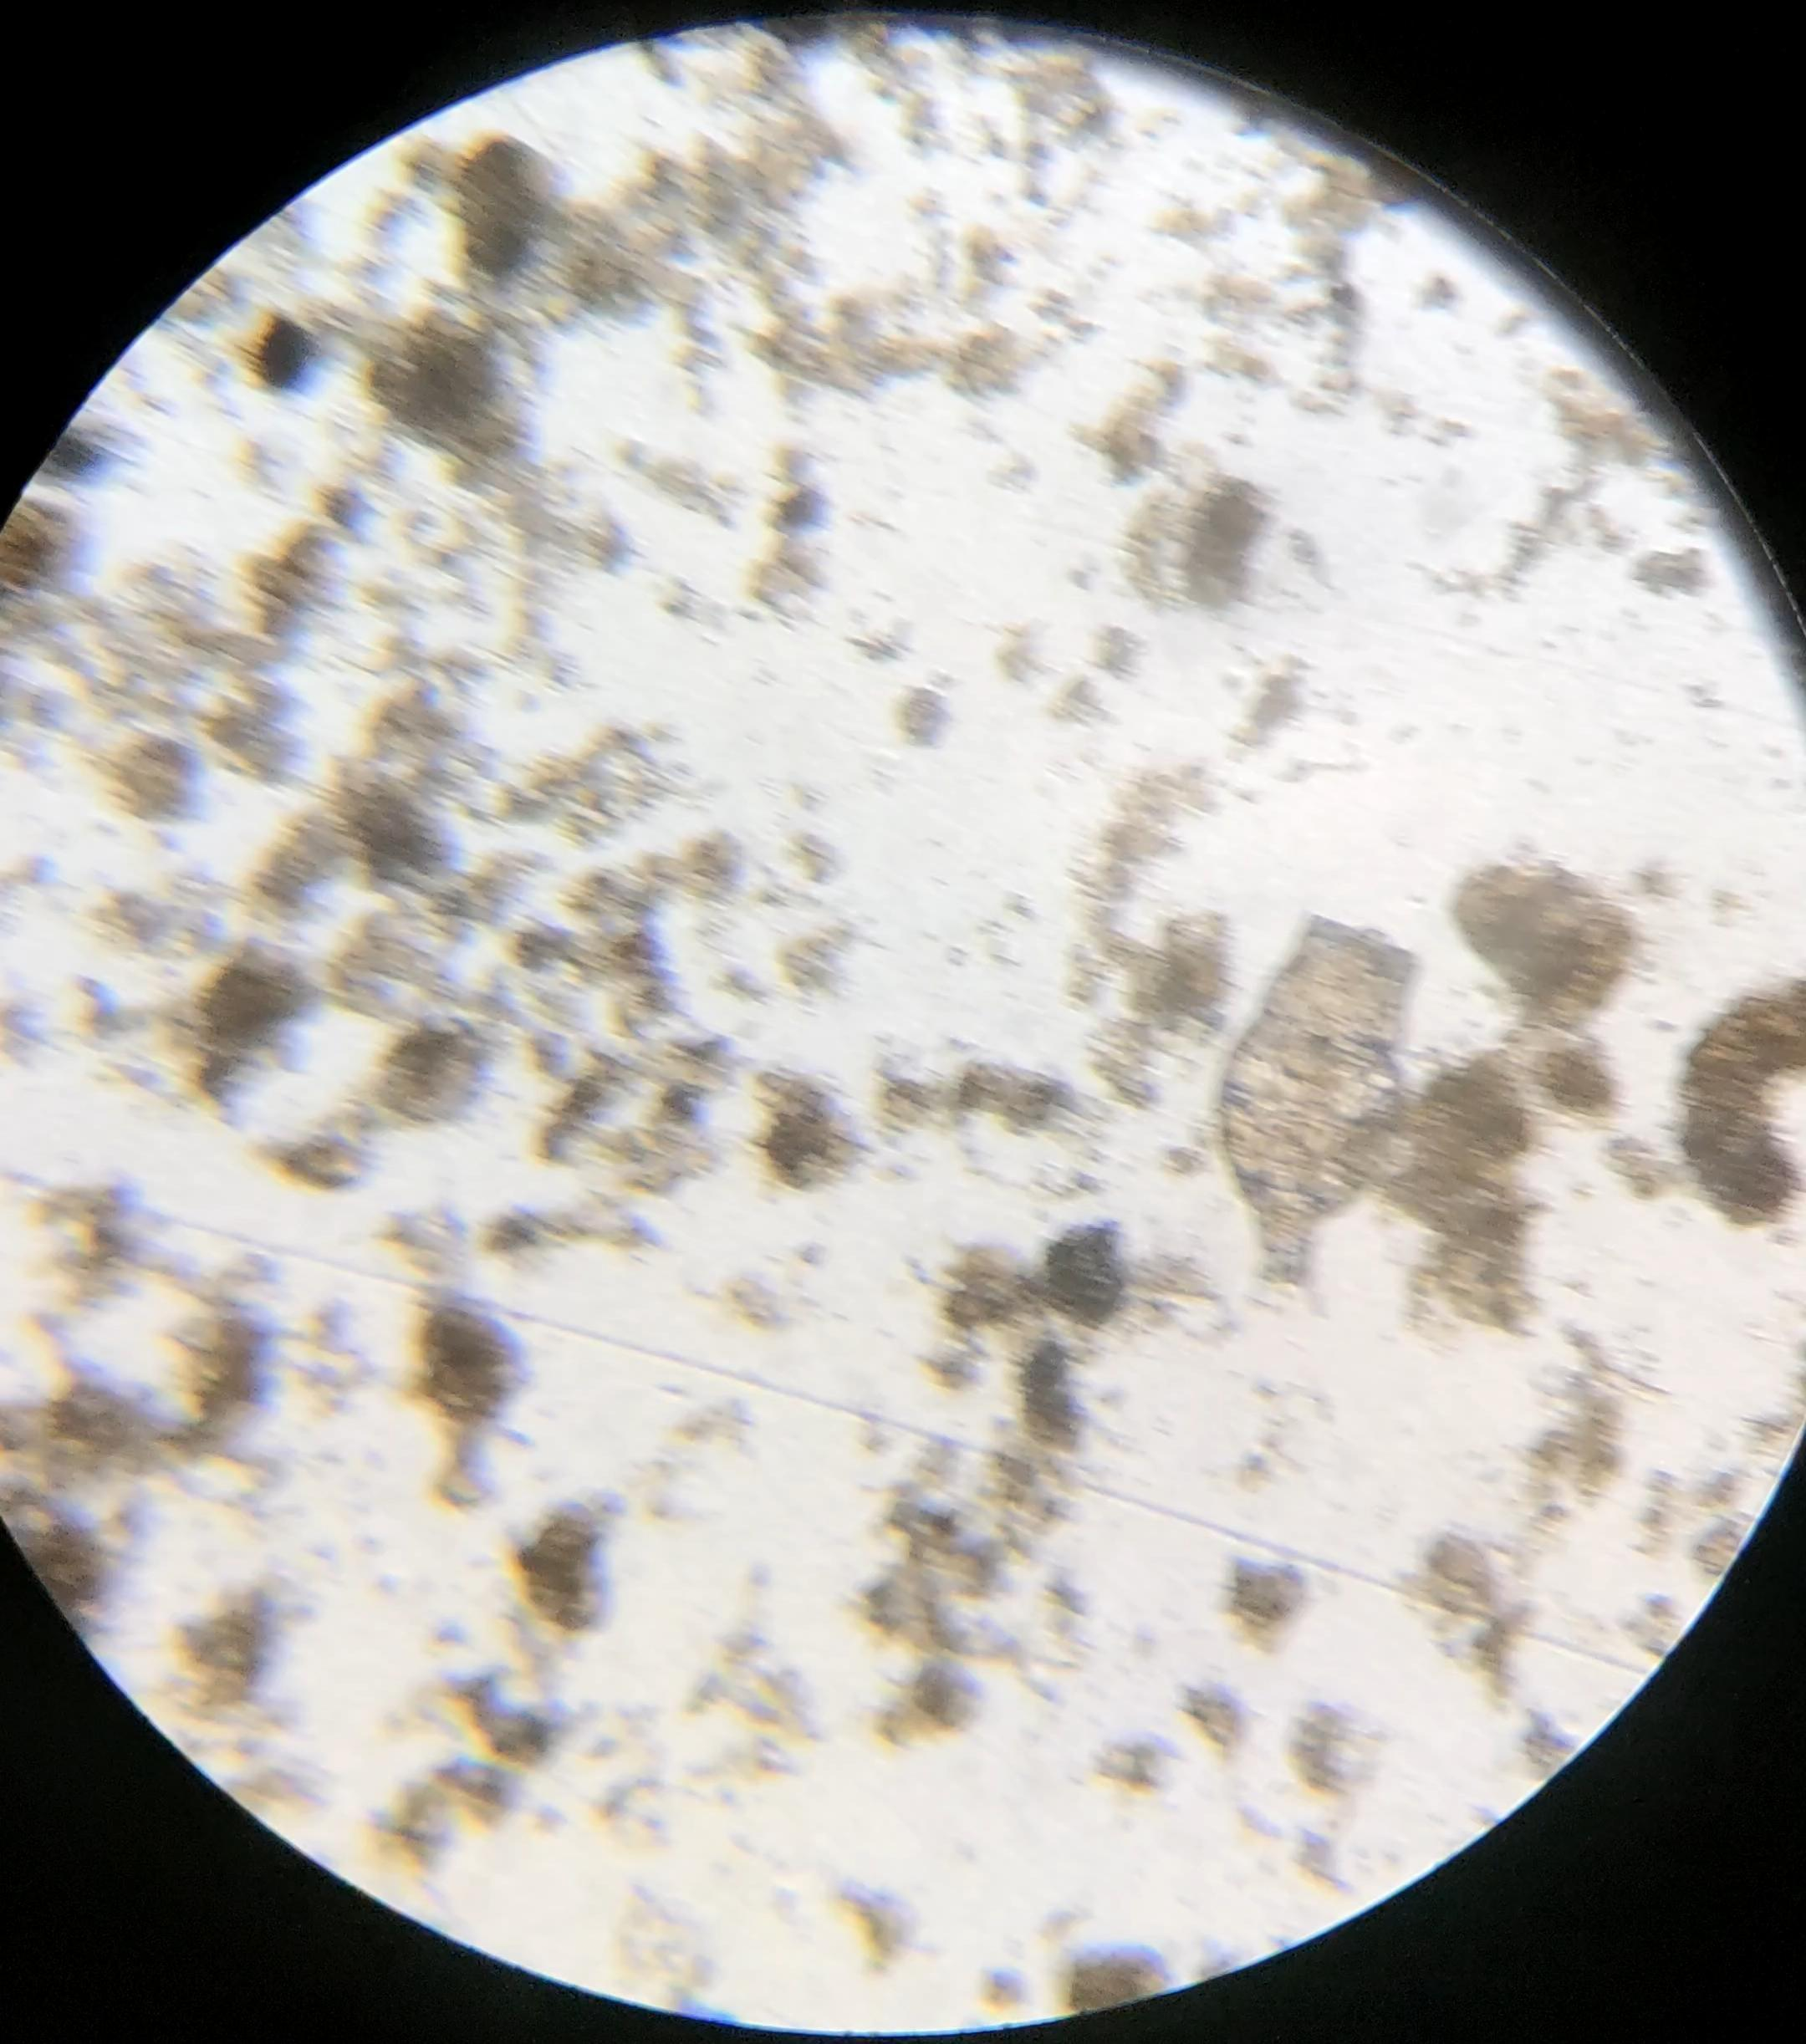Do: (1224, 917, 1410, 1319)
